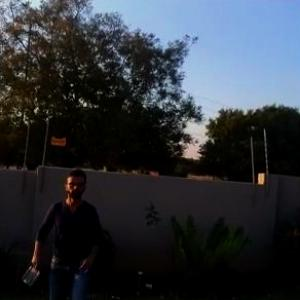follow: (18, 164, 108, 299)
